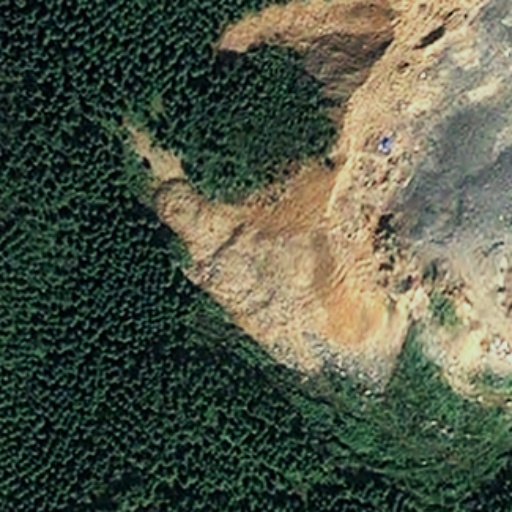landslide: (123, 121, 459, 381)
